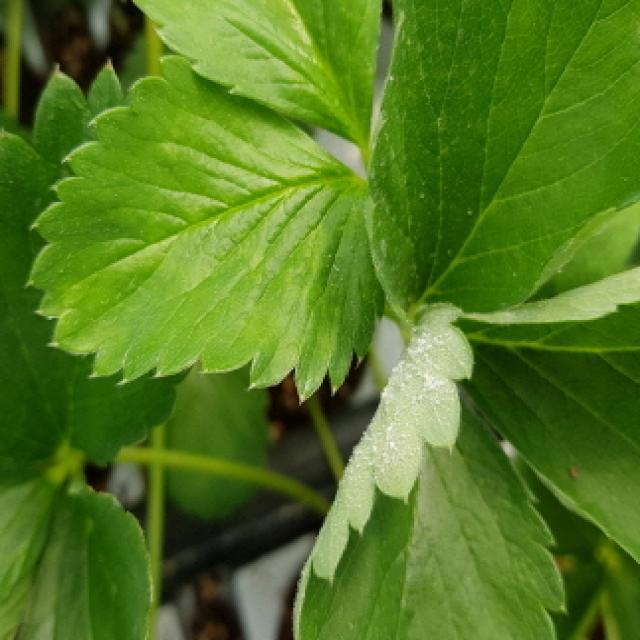Powdery Mildew Leaf: (291, 303, 568, 640), (454, 265, 640, 568)
